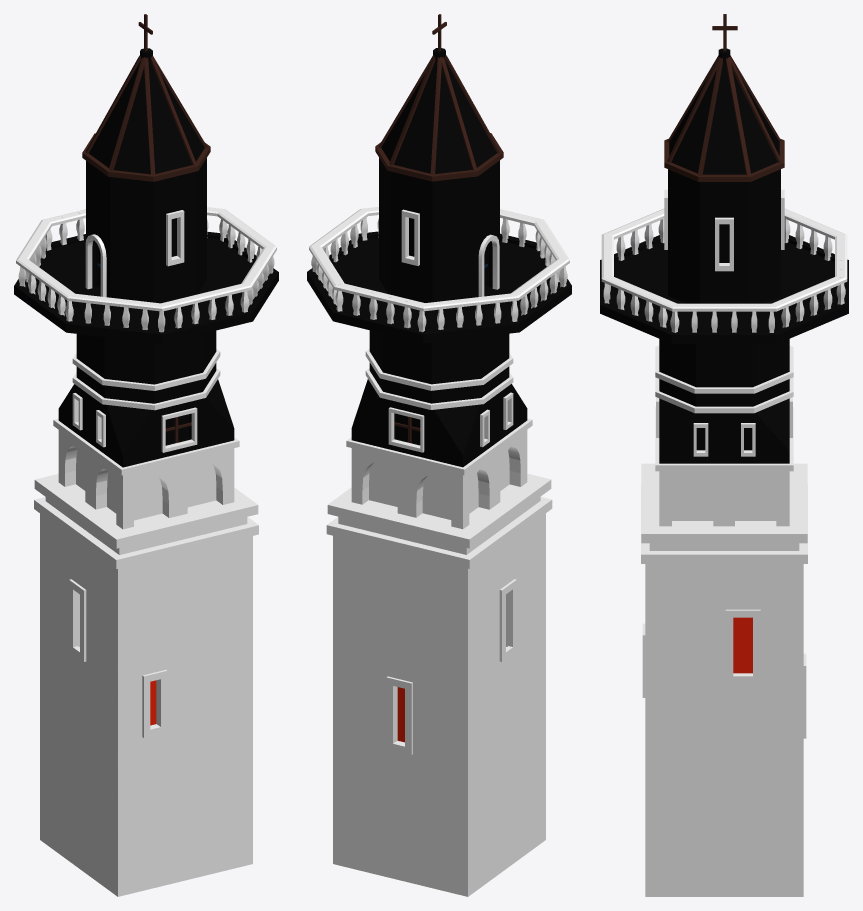
Rendered from proba_city_tower_a.FBX.
The picture shows the model from 3 angles, left to right: view 1: azimuth 30°, elevation 25°; view 2: azimuth 150°, elevation 25°; view 3: azimuth 270°, elevation 25°; orthographic projection.
Parts seen in each view (by area): view 1: city_tower_a; view 2: city_tower_a; view 3: city_tower_a.
Boxes of the visible parts, x1,y1,x2,y2 form: city_tower_a: (14, 14, 278, 896); city_tower_a: (307, 14, 571, 896); city_tower_a: (600, 14, 848, 896).
Size of the model in its own units: 310 by 1165 by 310.
